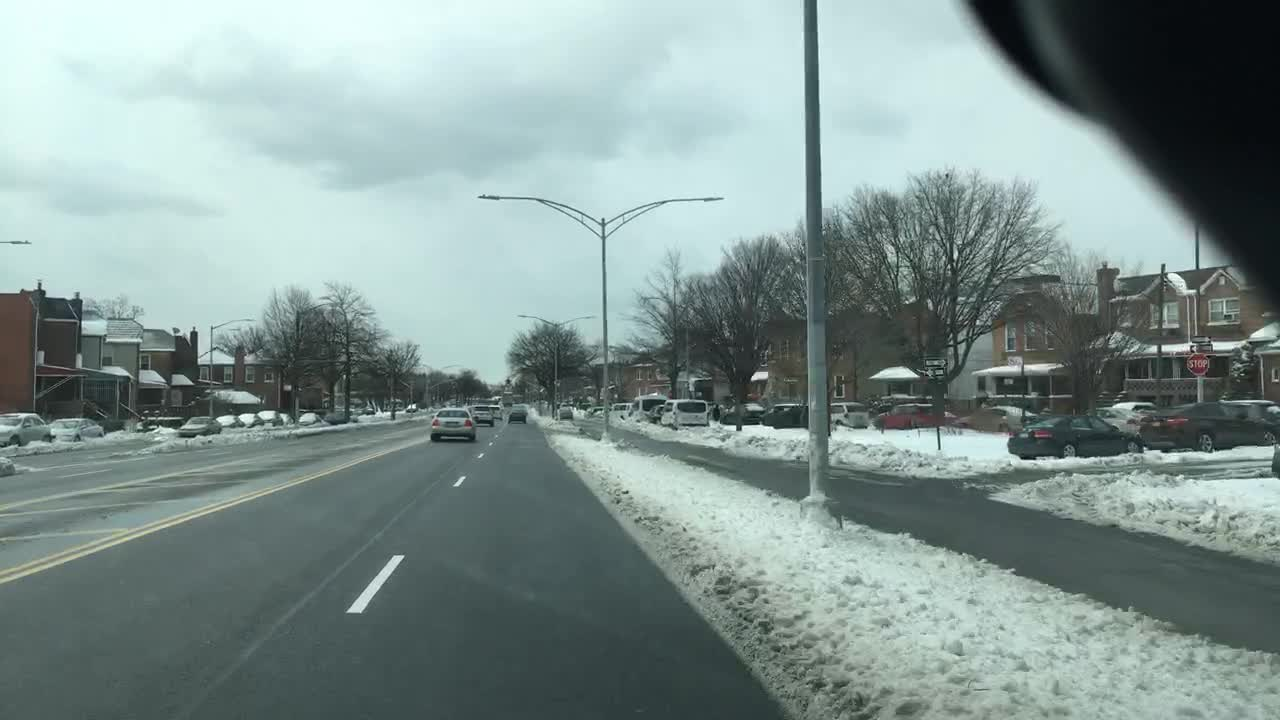car: (1137, 399, 1275, 452), (1004, 411, 1145, 459), (955, 404, 1040, 435), (873, 403, 958, 432), (2, 410, 54, 449), (430, 406, 480, 444), (1085, 404, 1142, 437), (658, 396, 711, 430), (47, 416, 104, 445), (828, 400, 870, 429), (630, 391, 670, 421), (175, 415, 225, 439), (761, 401, 806, 427), (724, 401, 764, 424), (1246, 398, 1278, 421), (1110, 400, 1156, 413), (470, 403, 495, 426), (258, 408, 285, 429), (214, 413, 247, 430), (608, 401, 632, 420), (506, 406, 529, 425), (239, 411, 265, 426), (321, 411, 346, 426), (298, 411, 321, 427), (581, 404, 605, 419), (556, 404, 571, 421), (279, 411, 294, 426), (490, 404, 502, 417), (343, 408, 356, 420), (363, 406, 378, 416), (404, 401, 416, 413)
person: (711, 401, 723, 420)
traffic sign: (1185, 353, 1210, 376)
